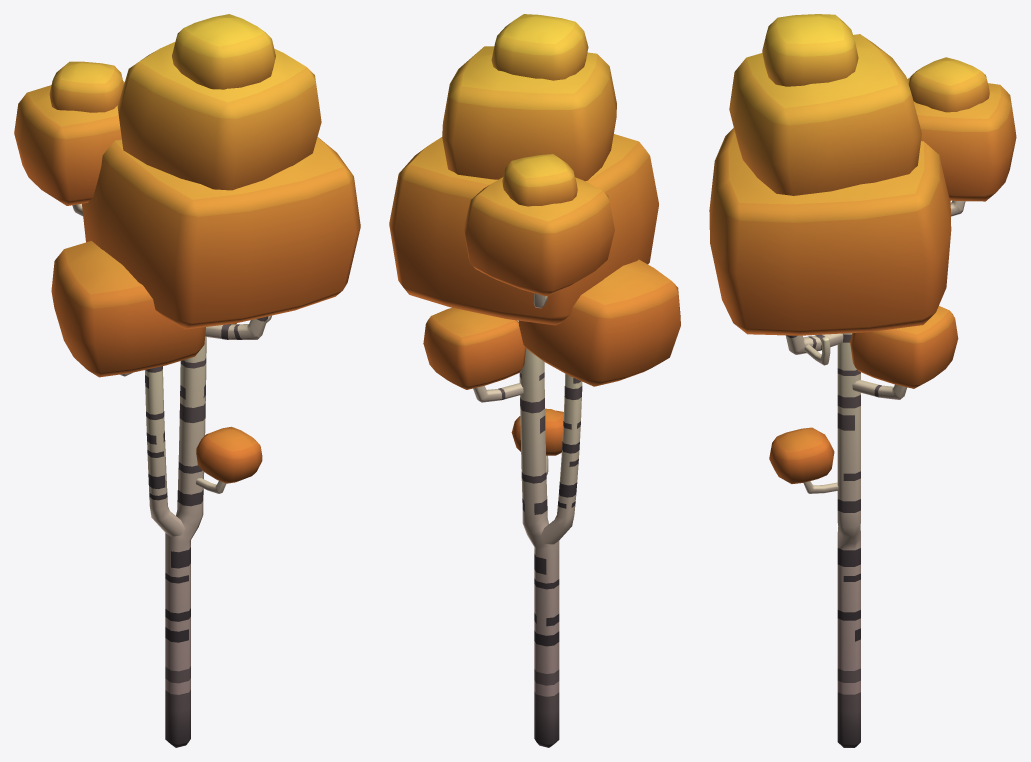
File: birch_tree_col2_01.fbx
The picture shows the model from 3 angles, left to right: view 1: azimuth 30°, elevation 25°; view 2: azimuth 150°, elevation 25°; view 3: azimuth 270°, elevation 25°; orthographic projection. The views are drawn at different scales.
Visible parts, largest first — view 1: birch_tree_SC_col2_01; view 2: birch_tree_SC_col2_01; view 3: birch_tree_SC_col2_01.
Part boxes in pixels (x1=…): birch_tree_SC_col2_01: x1=14, y1=14, x2=360, y2=747; birch_tree_SC_col2_01: x1=389, y1=14, x2=680, y2=747; birch_tree_SC_col2_01: x1=709, y1=14, x2=1016, y2=747.
Size of the model in its own units: 477 by 1300 by 492.
